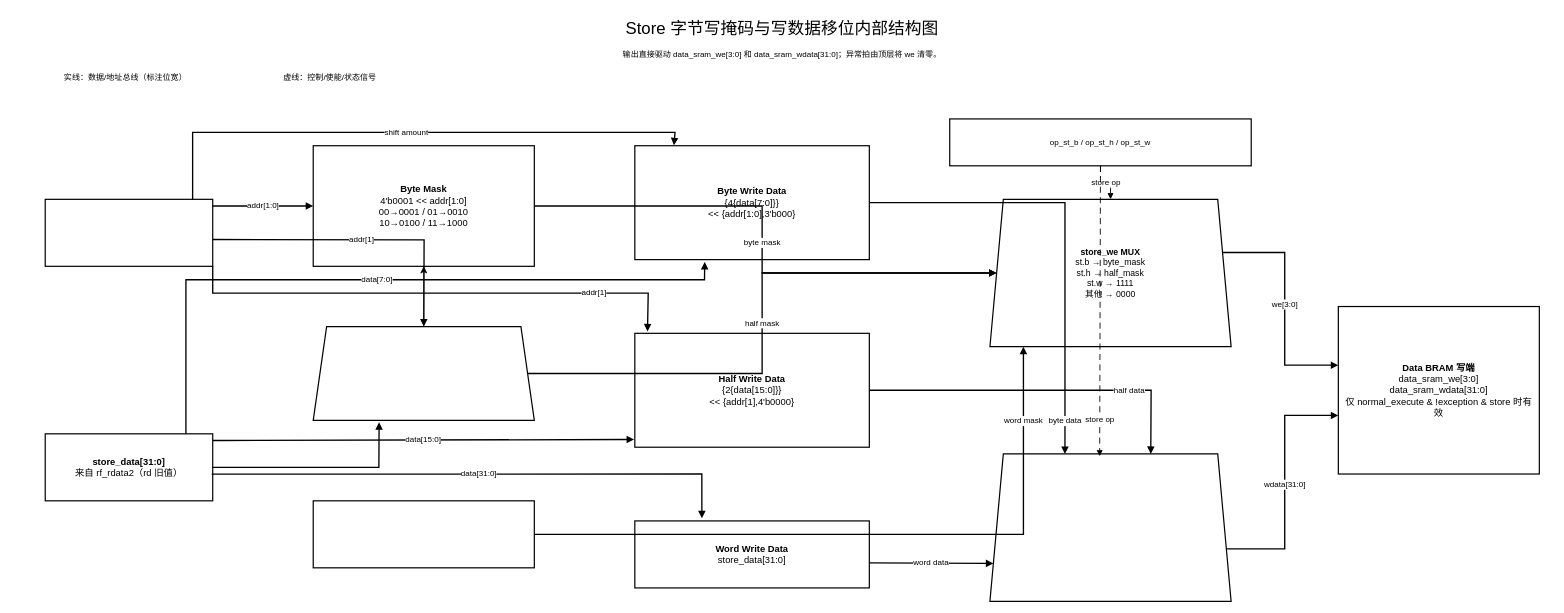
This 1564x613 diagram has some shape labels left out. Each missing label, with the centre of its shape:
addr[1:0] 字节 lane 选择: point 128,232
Half Mask addr[1]=0 → 0011 addr[1]=1 → 1100: point 423,373
store_wdata MUX st.b → byte_shifted st.h → half_shifted st.w → original 其他 → 0: point 1110,527
Word Mask 1111: point 423,534
